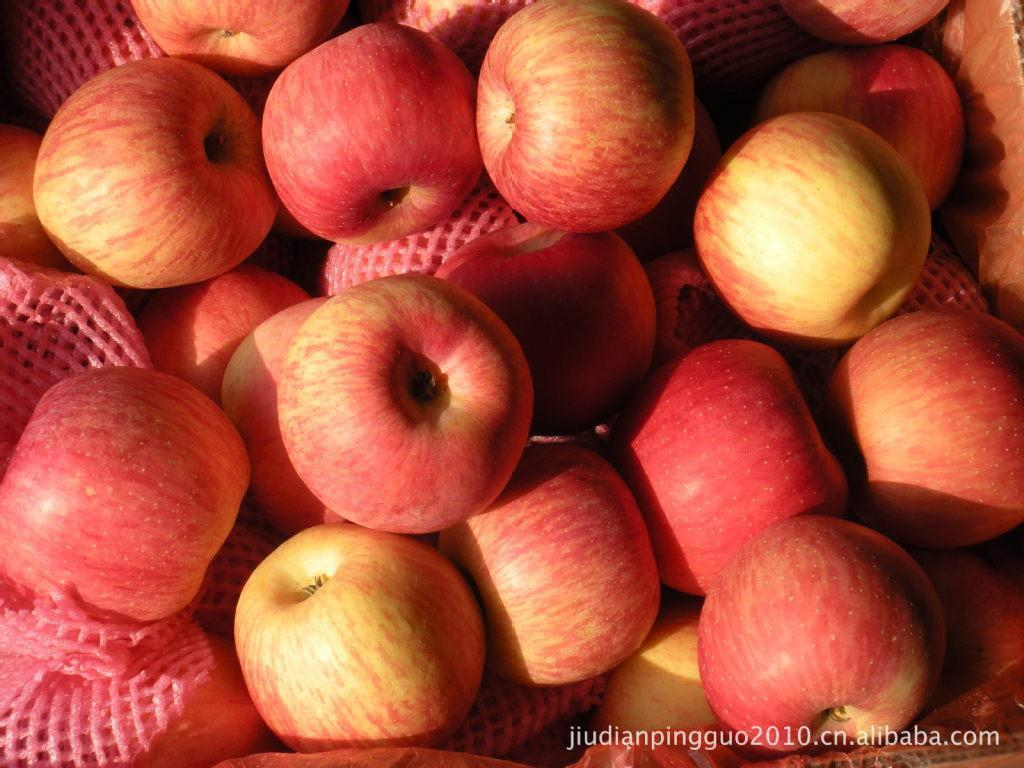apple: (274, 269, 530, 528), (1, 367, 253, 624), (691, 511, 947, 755), (608, 337, 845, 597), (24, 57, 283, 292), (691, 104, 937, 340), (229, 525, 483, 751), (467, 1, 697, 241), (448, 446, 662, 690), (257, 17, 481, 250), (826, 304, 1023, 551), (439, 221, 655, 438), (735, 38, 960, 226)
